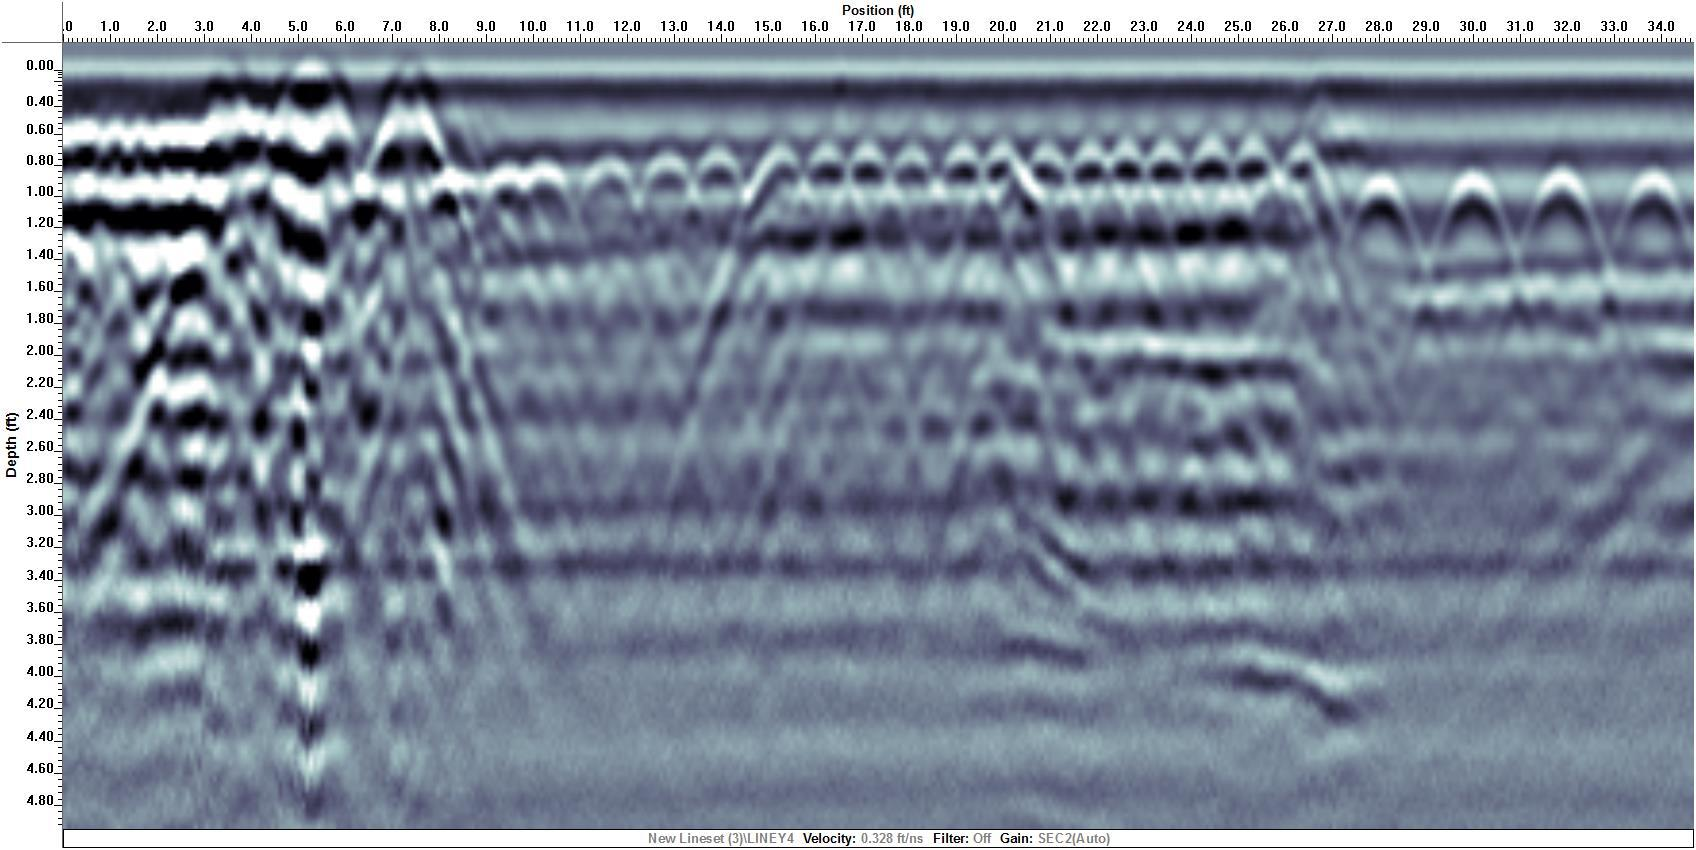hyperbola: (1415, 158, 1531, 333), (1507, 149, 1618, 318), (1329, 155, 1432, 333), (1596, 150, 1696, 319)
